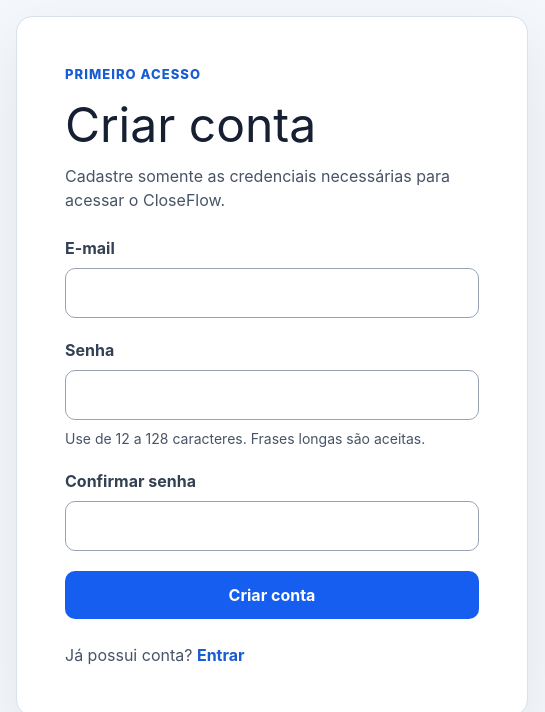
Test: fluxos mínimos de autenticação › valida confirmação e comprimento da senha no cadastro
Type "user@example.com" into the field labelled "E-mail" at (272, 293), box [65, 268, 479, 318]
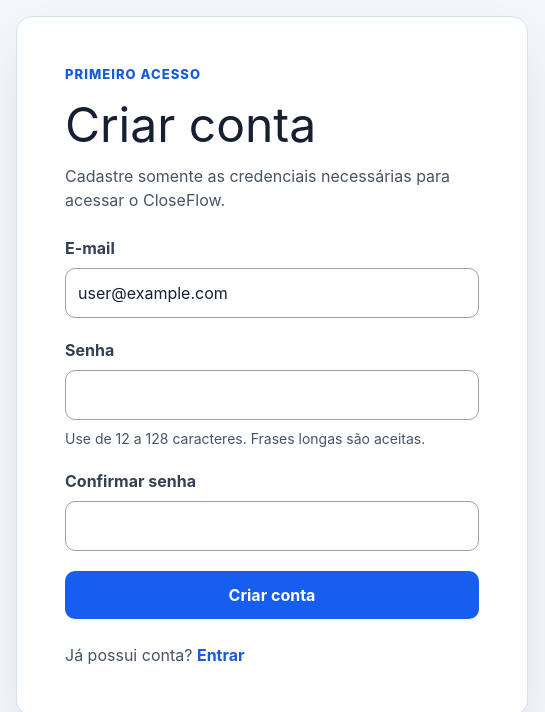
Type "correct password" into the password field labelled "Senha" at (272, 395), box [65, 370, 479, 420]
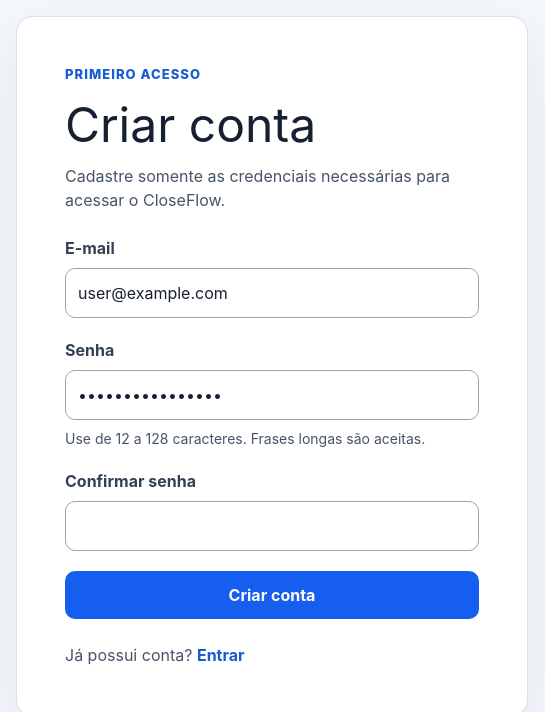
Type "different password" into the password field labelled "Confirmar senha" at (272, 526), box [65, 501, 479, 551]
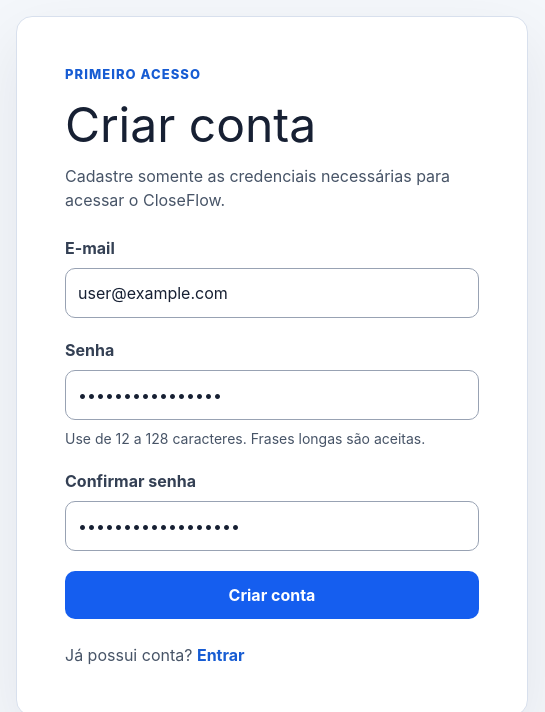
Click the button "Criar conta" at (272, 595), box [65, 571, 479, 619]
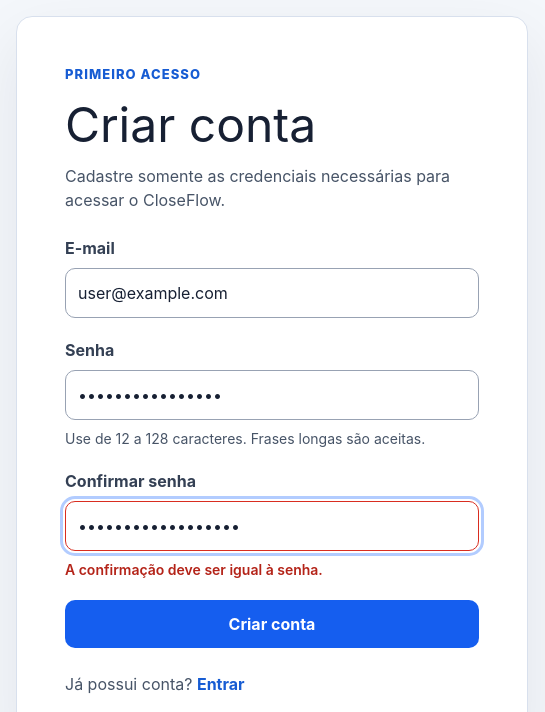
Result: the text "A confirmação deve ser igual à senha." is shown at [65, 561, 323, 578]
